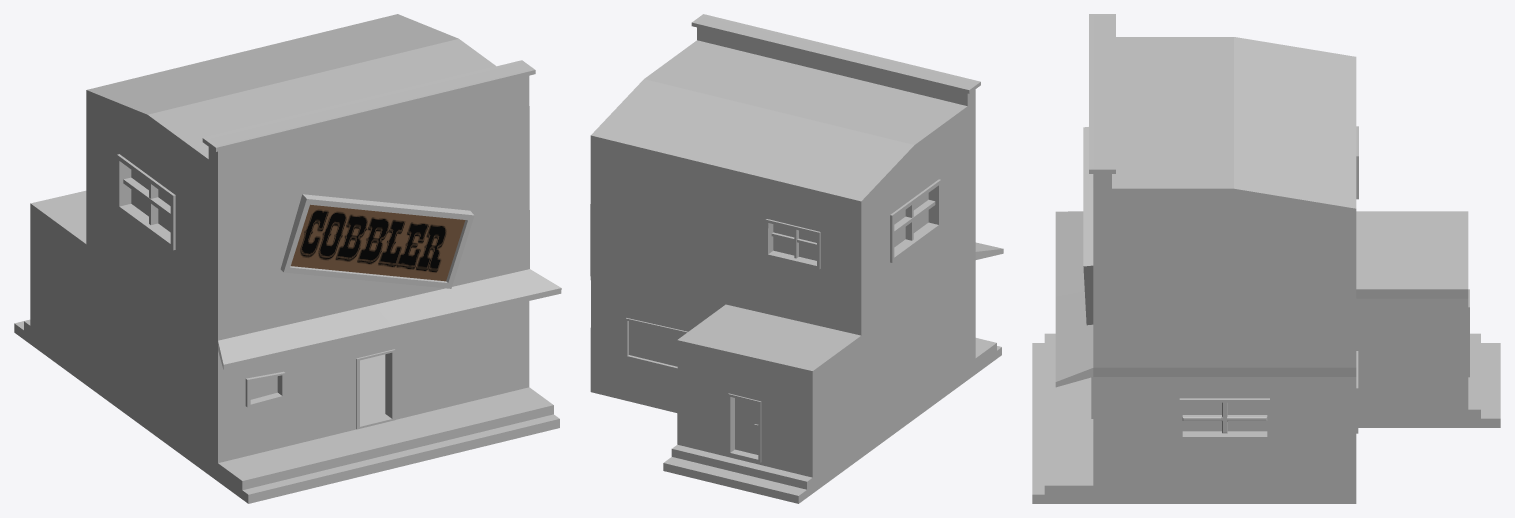
Rendered from Casa_10.fbx.
3 views of the same model, side by side, from view 1: azimuth 30°, elevation 25°; view 2: azimuth 150°, elevation 25°; view 3: azimuth 270°, elevation 25° (orthographic). The views are drawn at different scales.
Visible parts, largest first — view 1: Casa, Banner; view 2: Casa; view 3: Casa.
Part boxes in pixels (x1,y1,x2,y2): Casa: [14, 14, 561, 503]; Banner: [291, 204, 465, 281]; Casa: [590, 14, 1003, 503]; Casa: [1032, 14, 1500, 503].
Bounding box in the file's own units: 9115 × 8665 × 10935.
